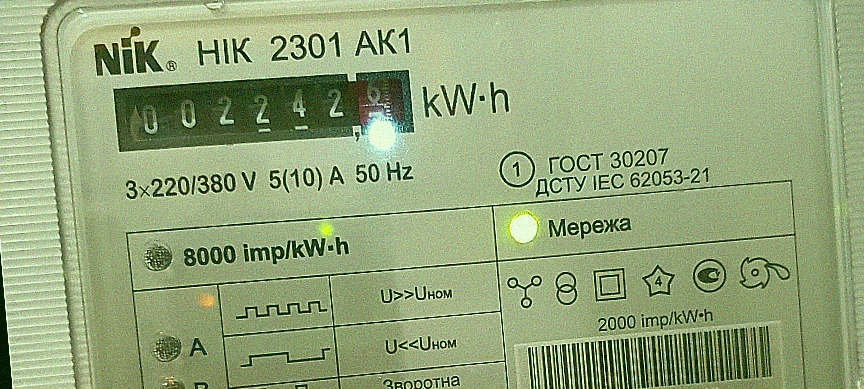0: (138, 101, 161, 136), (176, 95, 197, 130)
2: (214, 92, 236, 126), (250, 90, 271, 125), (325, 85, 344, 119)
4: (289, 85, 307, 119)
6: (364, 76, 382, 105)
screen: (101, 51, 425, 168)
